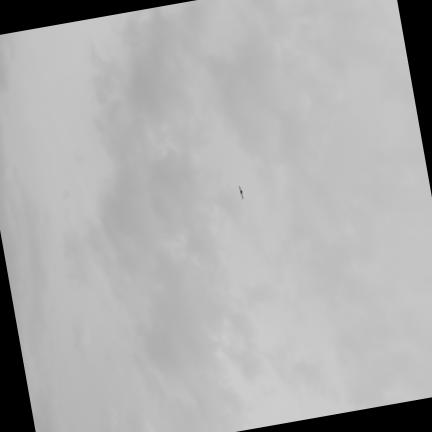Shahed: (238, 187, 242, 199)
